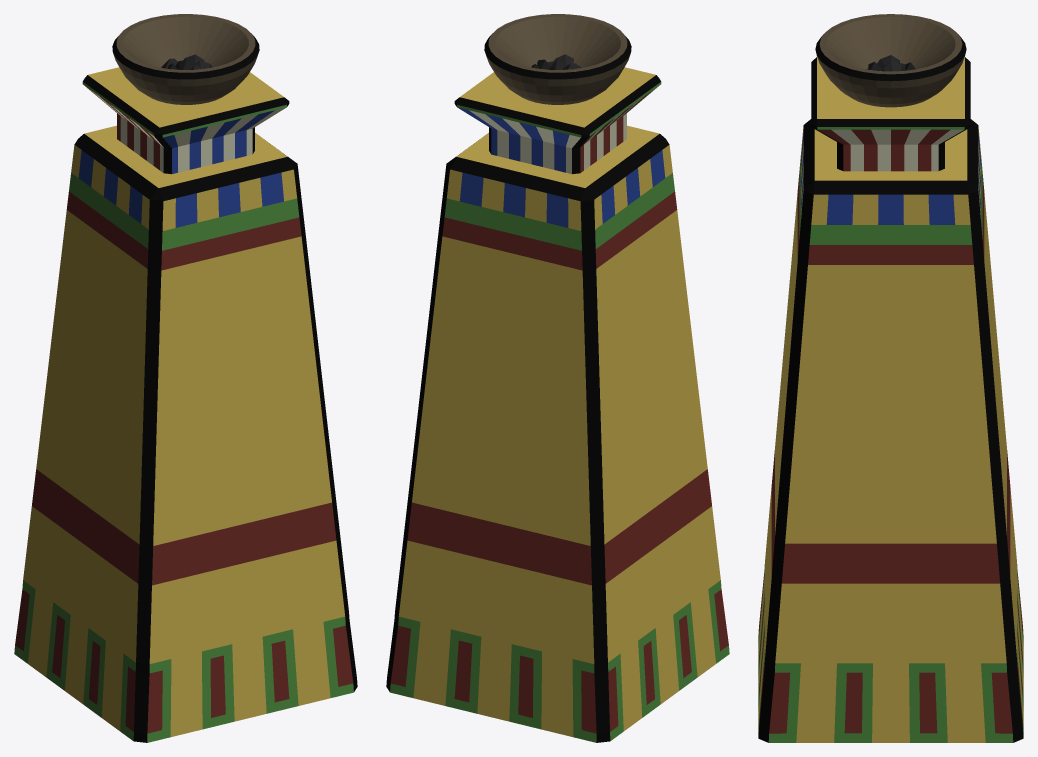
File: EG_Antorcha.fbx
3 renders of one model, left to right at view 1: azimuth 30°, elevation 25°; view 2: azimuth 150°, elevation 25°; view 3: azimuth 270°, elevation 25°, orthographic. The views are drawn at different scales.
Visible parts, largest first — view 1: Cube.022; view 2: Cube.022; view 3: Cube.022.
Boxes of the visible parts, box(x1,y1,x2,y2) form: Cube.022: box(14, 14, 357, 742); Cube.022: box(386, 14, 729, 742); Cube.022: box(758, 14, 1023, 742).
Bounding box in the file's own units: 52.9 × 142 × 52.9.
